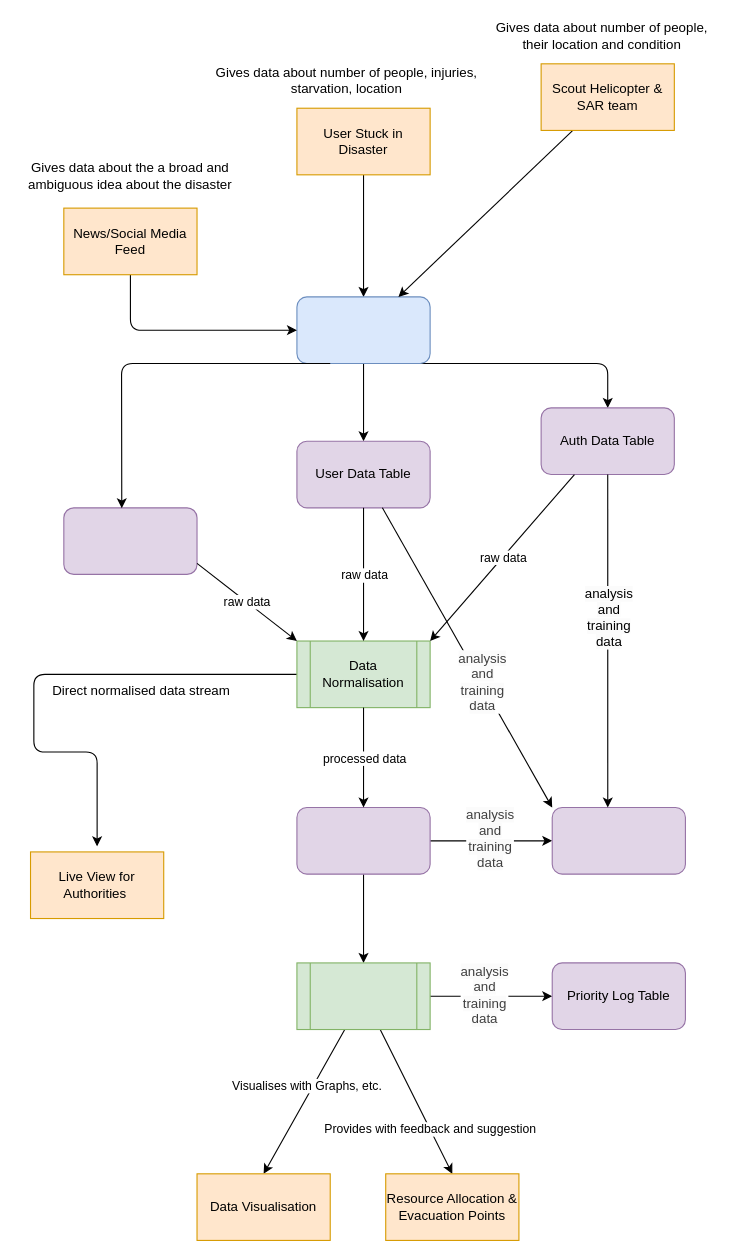
The diagram is 737 pixels wide and 1260 high, and some of its shapes have lost their labels. The shapes that lost their labels are listed below. From the top down, each one's centre as x and y in pixels, then its label:
At (x=363, y=330): "StreamHandler".
At (x=130, y=540): "News Data Table".
At (x=363, y=840): "Master Table".
At (x=618, y=840): "Log Table".
At (x=363, y=996): "PriorityEngine".
